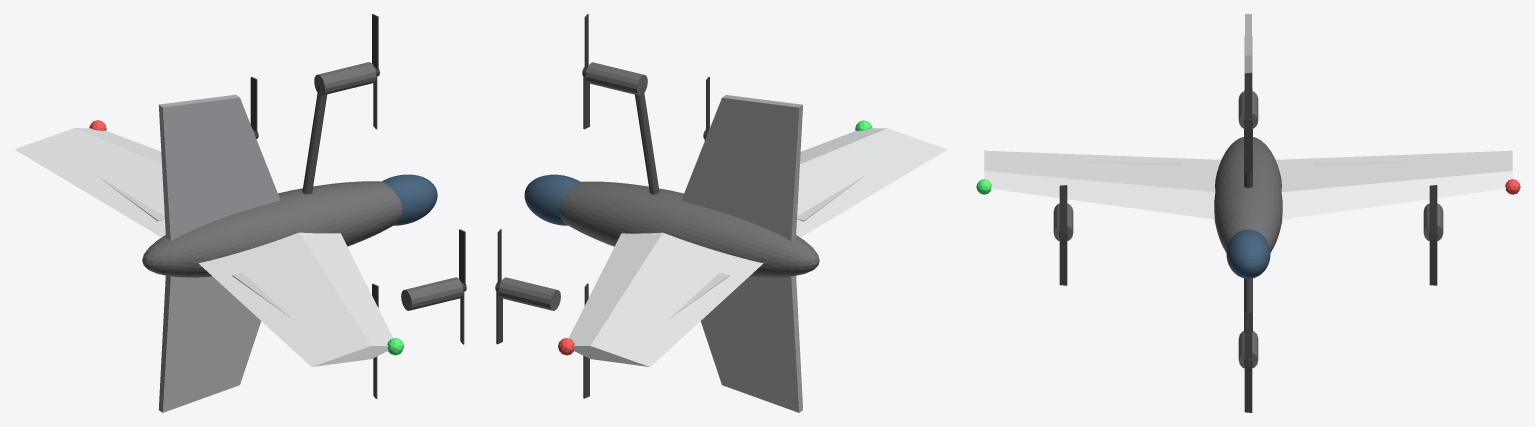
The model's file is smv_tailsitter.glb.
3 views of the same model, side by side, from view 1: azimuth 30°, elevation 25°; view 2: azimuth 150°, elevation 25°; view 3: azimuth 270°, elevation 25° (orthographic). The views are drawn at different scales.
Parts seen in each view (by area): view 1: tailsitter_v0, tailsitter_v3, tailsitter_v1, tailsitter_v4, tailsitter_v2, tailsitter_v6, tailsitter_v7, tailsitter_v8, prop_2_v0, prop_3_v0, prop_1_v0; view 2: tailsitter_v0, tailsitter_v3, tailsitter_v1, tailsitter_v4, tailsitter_v2, tailsitter_v5, tailsitter_v7, tailsitter_v8, prop_1_v0, prop_3_v0; view 3: tailsitter_v0, tailsitter_v1, tailsitter_v2, prop_4_v0, prop_1_v0, prop_2_v0, prop_3_v0, tailsitter_v3.
Boxes of the visible parts, x1=… form: tailsitter_v0: x1=14, y1=128, x2=393, y2=366; tailsitter_v3: x1=158, y1=94, x2=280, y2=240; tailsitter_v1: x1=142, y1=181, x2=402, y2=277; tailsitter_v4: x1=158, y1=275, x2=261, y2=412; tailsitter_v2: x1=382, y1=174, x2=437, y2=225; tailsitter_v6: x1=401, y1=277, x2=463, y2=310; tailsitter_v7: x1=314, y1=62, x2=376, y2=95; tailsitter_v8: x1=302, y1=86, x2=327, y2=194; prop_2_v0: x1=459, y1=229, x2=466, y2=344; prop_3_v0: x1=372, y1=14, x2=379, y2=129; prop_1_v0: x1=250, y1=77, x2=258, y2=138; tailsitter_v0: x1=568, y1=128, x2=947, y2=366; tailsitter_v3: x1=681, y1=95, x2=802, y2=240; tailsitter_v1: x1=559, y1=181, x2=819, y2=277; tailsitter_v4: x1=700, y1=276, x2=802, y2=412; tailsitter_v2: x1=524, y1=174, x2=579, y2=225; tailsitter_v5: x1=498, y1=277, x2=560, y2=310; tailsitter_v7: x1=585, y1=62, x2=647, y2=95; tailsitter_v8: x1=635, y1=85, x2=659, y2=194; prop_1_v0: x1=495, y1=229, x2=502, y2=344; prop_3_v0: x1=582, y1=14, x2=589, y2=129; tailsitter_v0: x1=984, y1=150, x2=1512, y2=219; tailsitter_v1: x1=1214, y1=137, x2=1282, y2=252; tailsitter_v2: x1=1226, y1=229, x2=1270, y2=278; prop_4_v0: x1=1244, y1=312, x2=1252, y2=412; prop_1_v0: x1=1429, y1=185, x2=1437, y2=285; prop_2_v0: x1=1059, y1=185, x2=1067, y2=285; prop_3_v0: x1=1244, y1=72, x2=1252, y2=173; tailsitter_v3: x1=1244, y1=14, x2=1252, y2=90.
Bounding box in the file's own units: 0.68 × 0.8496 × 1.24.
